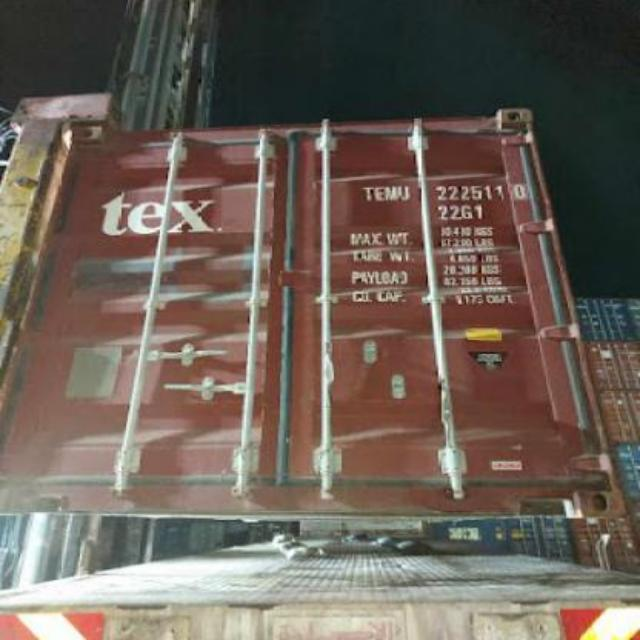0: (512, 182, 532, 200)
1: (482, 180, 498, 203), (494, 183, 504, 201)
2: (446, 180, 459, 204), (434, 185, 450, 203), (456, 182, 472, 198)
5: (470, 180, 478, 200)
E: (374, 182, 386, 205)
M: (384, 181, 398, 205)
T: (362, 182, 376, 208)
U: (396, 182, 412, 200)
